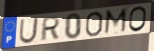0: (62, 13, 83, 41)
M: (103, 7, 129, 36)
O: (84, 10, 105, 38), (128, 6, 148, 33)
R: (39, 16, 62, 43)
U: (18, 17, 40, 45)
